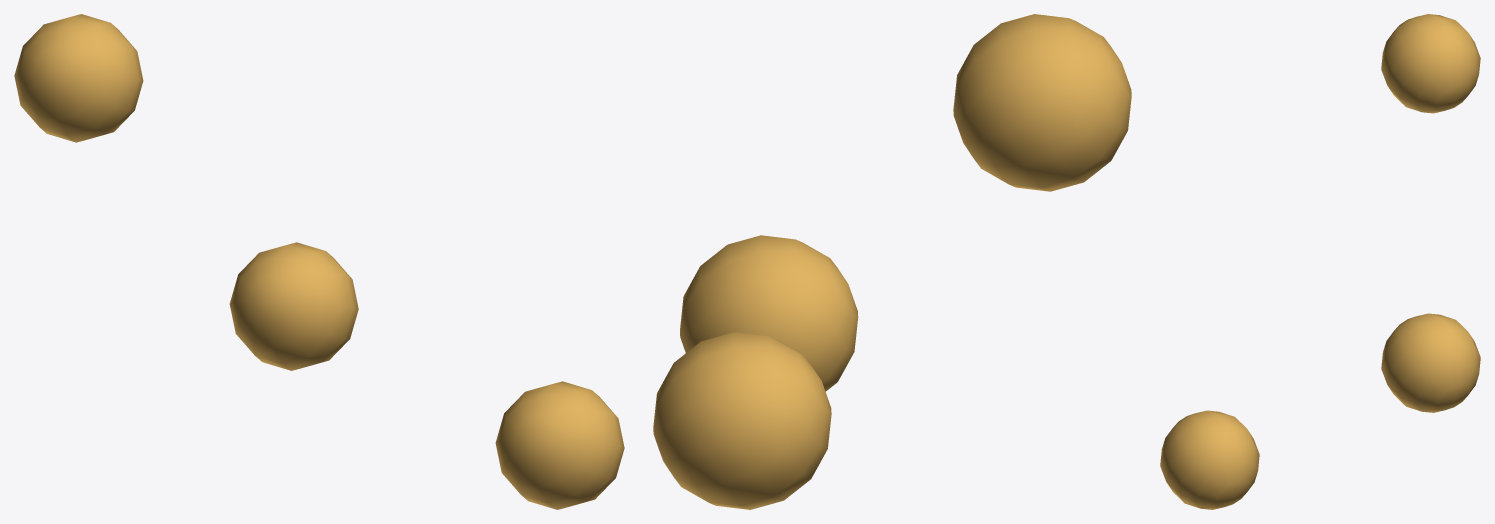
3 renders of one model, left to right at view 1: azimuth 30°, elevation 25°; view 2: azimuth 150°, elevation 25°; view 3: azimuth 270°, elevation 25°, orthographic. The views are drawn at different scales.
Visible parts, largest first — view 1: 左侧腮腺浅淋巴结; view 2: 左侧腮腺浅淋巴结; view 3: 左侧腮腺浅淋巴结.
Boxes of the visible parts, <box> form: 左侧腮腺浅淋巴结: <box>14,14,624,509</box>; 左侧腮腺浅淋巴结: <box>653,14,1131,509</box>; 左侧腮腺浅淋巴结: <box>1160,14,1480,509</box>.
Size of the model in its own units: 0.0154 by 0.0151 by 0.0123.
